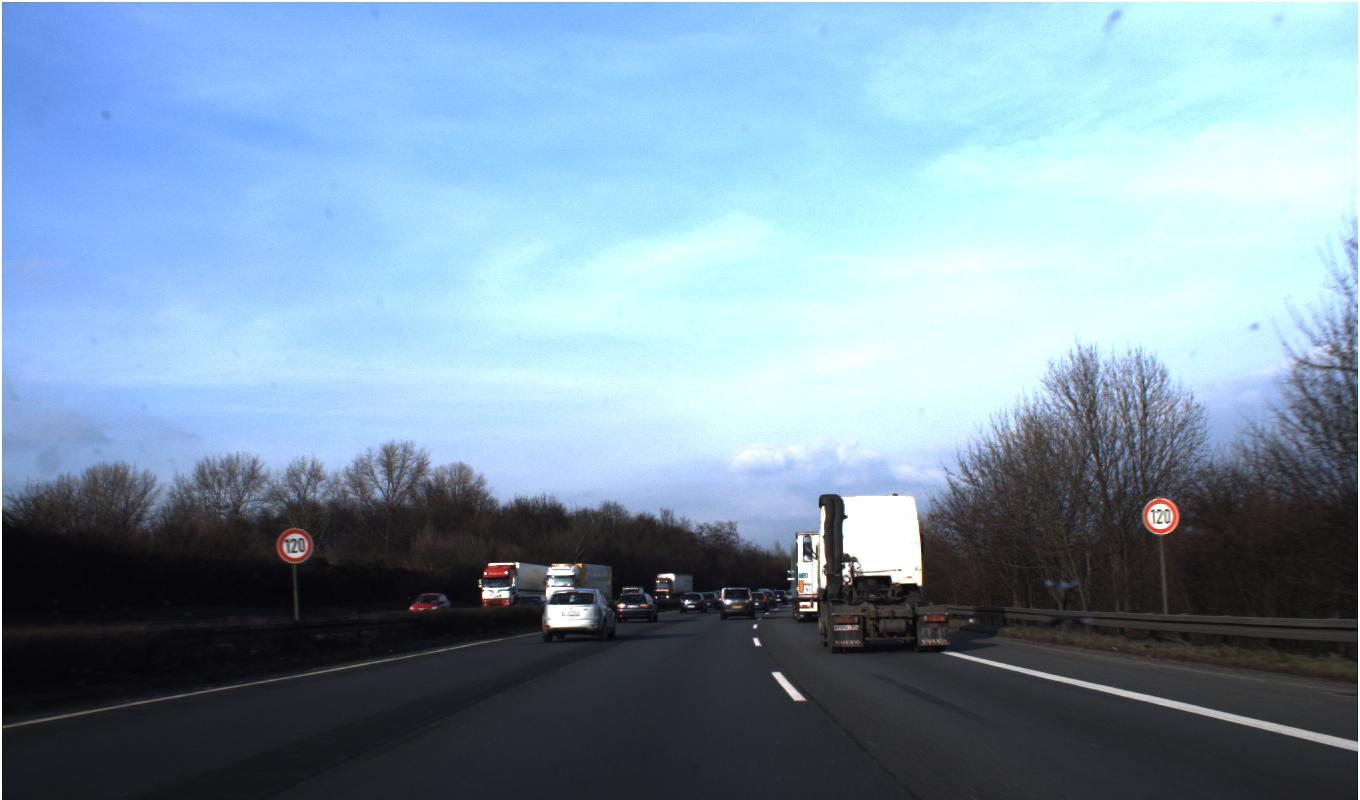prohibitory: (1141, 496, 1179, 536), (275, 527, 314, 564)
